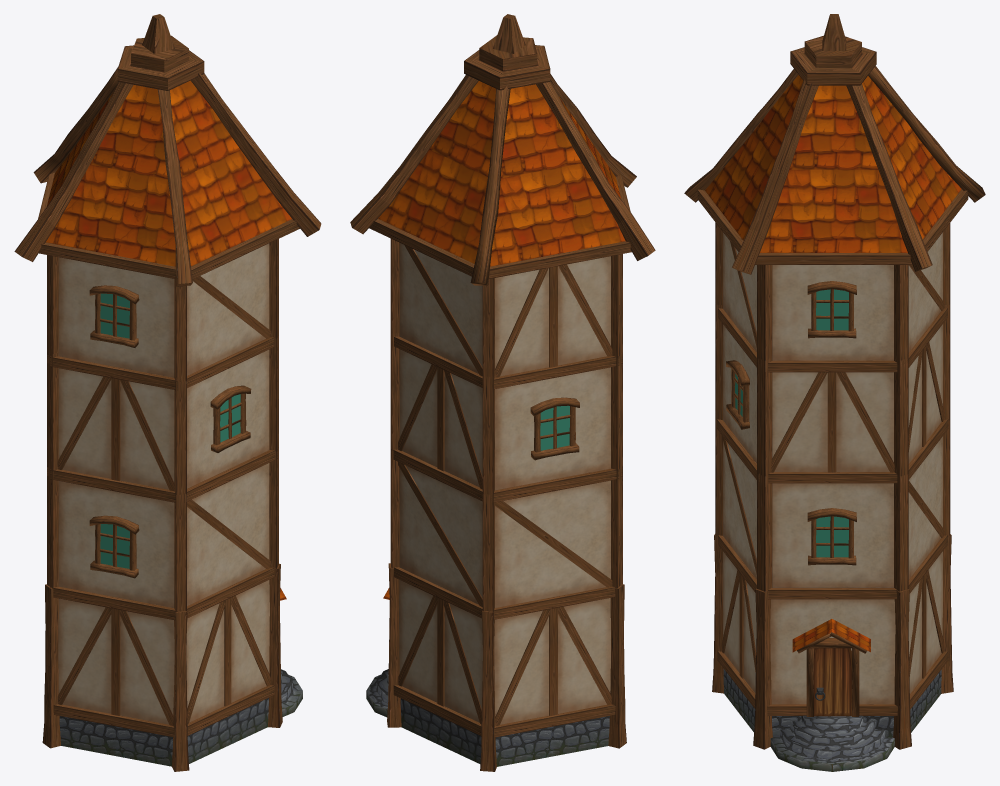
Rendered from house4_before.fbx.
3 renders of one model, left to right at view 1: azimuth 30°, elevation 25°; view 2: azimuth 150°, elevation 25°; view 3: azimuth 270°, elevation 25°, orthographic.
Parts seen in each view (by area): view 1: WCorner1.125, WallTile1.024, WallTile1.020, WallTile1.031, WallTile1.037, WallTile1.018, WallTile1.022, WallTile1.026, WallTile1.035, RockTileBottom.105, WCorner1.122, WCorner1.123 (+11 smaller); view 2: WCorner1.125, WallTile1.021, WallTile1.025, WallTile1.034, WallTile1.038, WallTile1.019, WallTile1.023, WallTile1.030, WallTile1.036, RockTileBottom.105, WCorner1.123, WCorner1.124 (+11 smaller); view 3: WCorner1.125, WallWindow1.022, WallWindow1.046, WallWindow1.047, WallWindow1.048, Cylinder, WallTile1.023, WallTile1.019, WallTile1.018, WallTile1.030, WallTile1.022, WallTile1.026 (+19 smaller).
Part boxes in pixels (<box>): WCorner1.125: <box>14,14,321,286</box>; WallTile1.024: <box>50,481,177,620</box>; WallTile1.020: <box>53,598,174,737</box>; WallTile1.031: <box>50,368,175,502</box>; WallTile1.037: <box>50,257,177,390</box>; WallTile1.018: <box>186,580,274,735</box>; WallTile1.022: <box>187,463,274,617</box>; WallTile1.026: <box>184,349,277,502</box>; WallTile1.035: <box>187,243,274,387</box>; RockTileBottom.105: <box>59,698,268,766</box>; WCorner1.122: <box>171,611,189,771</box>; WCorner1.123: <box>42,584,60,748</box>; WCorner1.125: <box>350,14,655,285</box>; WallTile1.021: <box>494,598,615,737</box>; WallTile1.025: <box>494,480,615,619</box>; WallTile1.034: <box>491,367,619,502</box>; WallTile1.038: <box>494,256,619,389</box>; WallTile1.019: <box>393,579,482,735</box>; WallTile1.023: <box>394,462,482,618</box>; WallTile1.030: <box>391,349,482,501</box>; WallTile1.036: <box>394,243,482,387</box>; RockTileBottom.105: <box>400,698,609,766</box>; WCorner1.123: <box>608,584,626,748</box>; WCorner1.124: <box>480,610,496,771</box>; WCorner1.125: <box>684,14,985,274</box>; WallWindow1.022: <box>767,599,897,716</box>; WallWindow1.046: <box>768,483,897,599</box>; WallWindow1.047: <box>768,372,897,483</box>; WallWindow1.048: <box>768,265,897,372</box>; Cylinder: <box>770,715,894,771</box>; WallTile1.023: <box>908,436,947,593</box>; WallTile1.019: <box>908,551,948,709</box>; WallTile1.018: <box>717,551,756,708</box>; WallTile1.030: <box>908,324,948,479</box>; WallTile1.022: <box>718,435,756,592</box>; WallTile1.026: <box>717,324,759,482</box>.
Bounding box in the file's own units: 98.91 × 240 × 94.83.
Materials: 3 (2 with a texture image).
